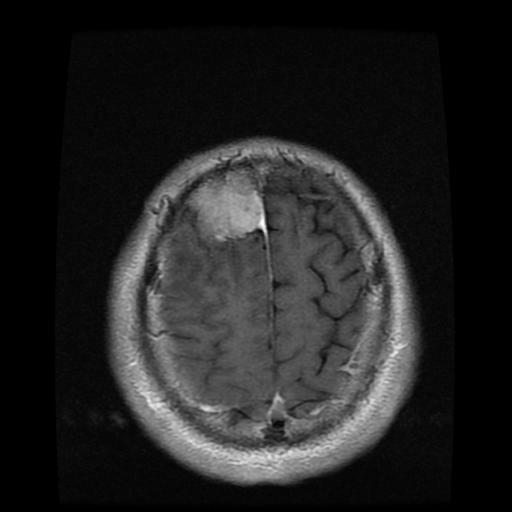Tumour-Meningioma: (180, 181, 294, 271)
